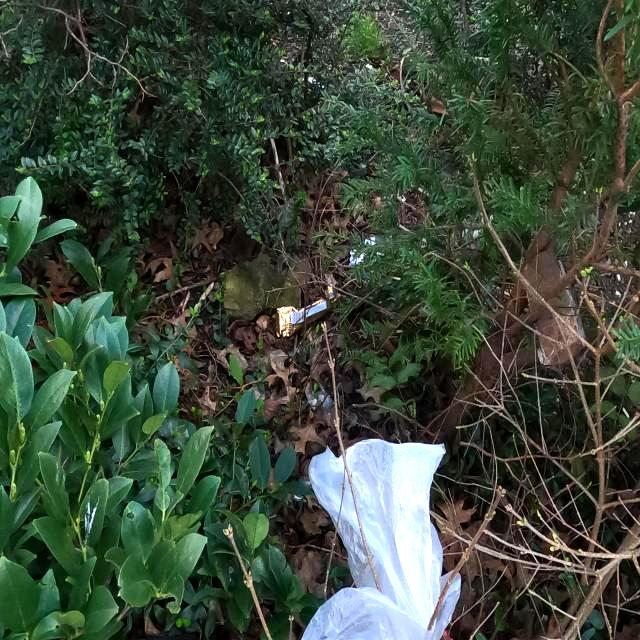Plastic: (274, 281, 342, 341)
